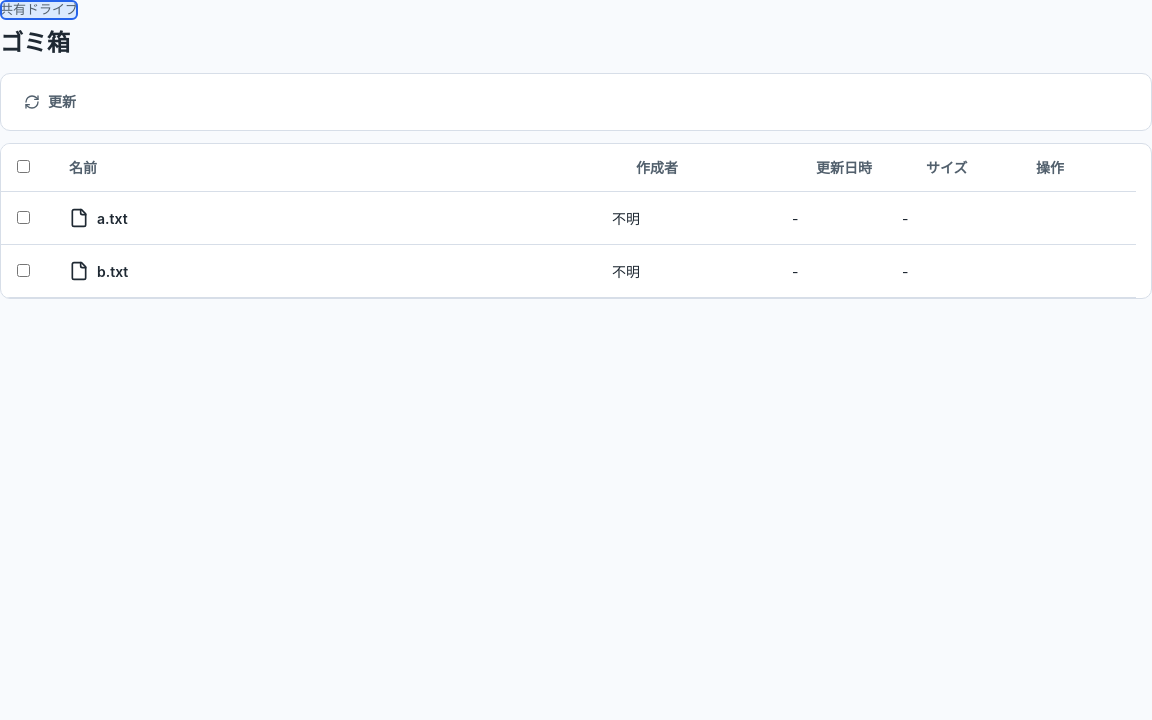
Test case: DrivePage drag and drop upload › keeps all restore conflicts in one preview modal and supports bulk changes
The width and height of the screenshot is (1152, 720).
Click the checkbox named "aを選択" at {"x": 24, "y": 217}, box [17,211,30,224]
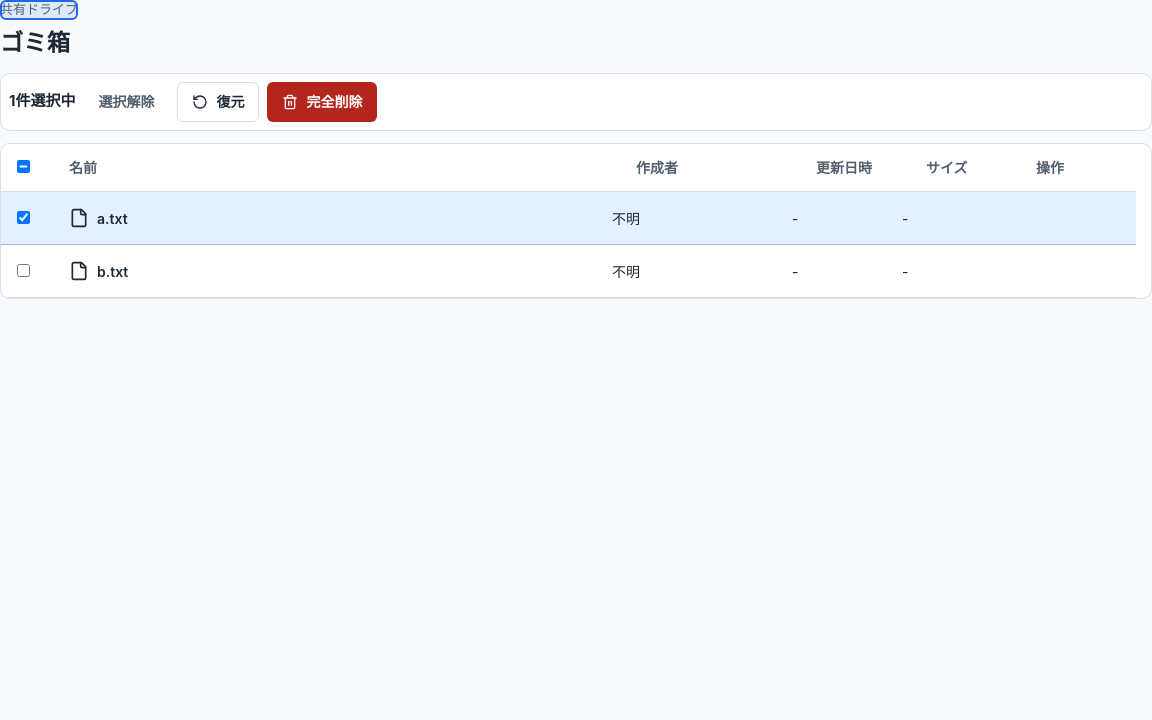
Click the checkbox named "bを選択" at {"x": 24, "y": 270}, box [17,264,30,277]
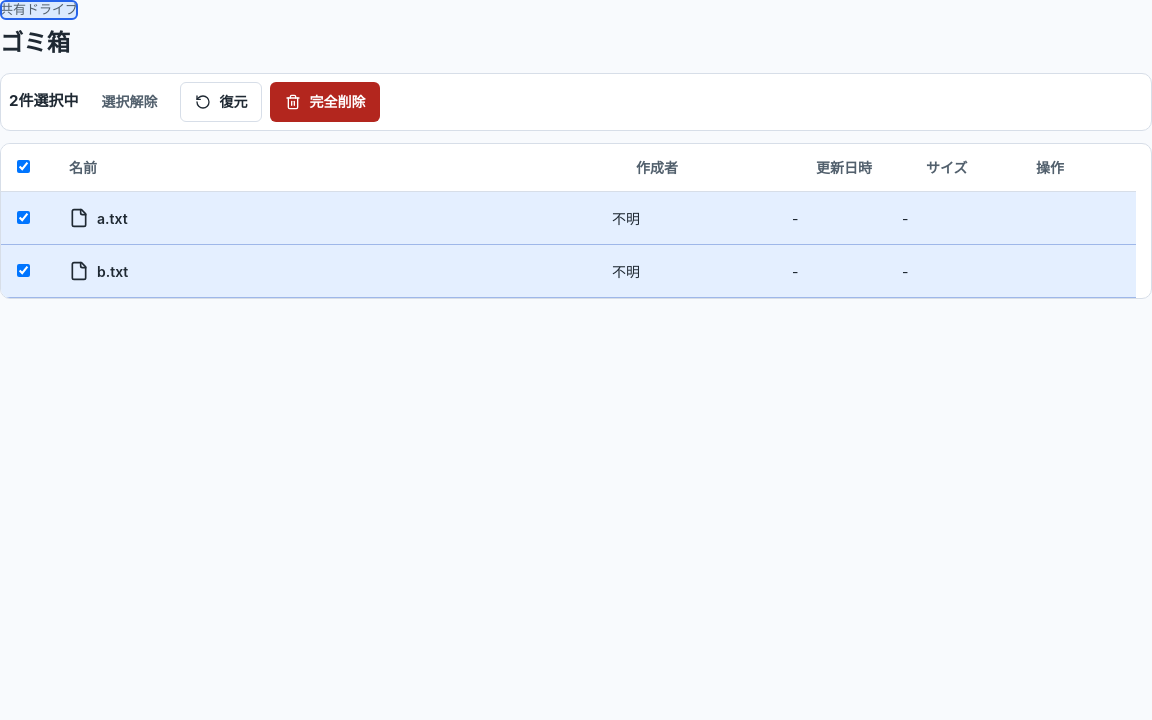
Click the button "復元" at {"x": 222, "y": 102}, box [180,82,262,122]
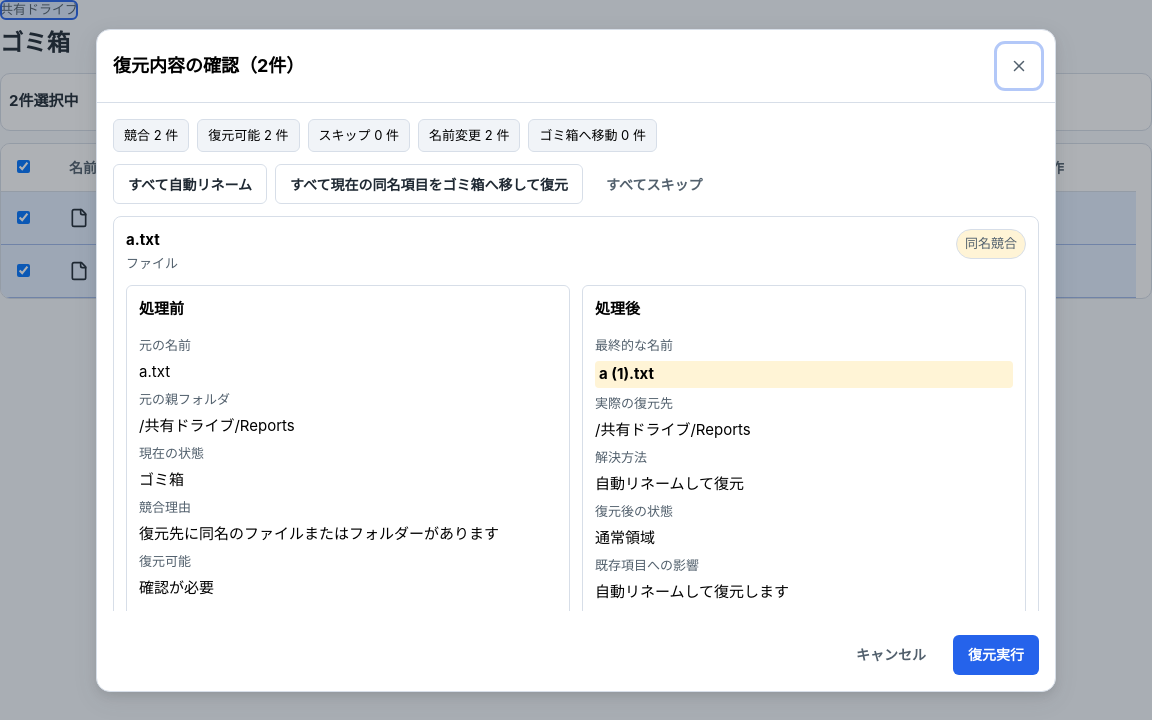
Expected: the 1st text "a.txt" is shown, [97,208,128,229]
Now the heading "復元内容の確認（2件）" is shown, box [113,52,304,79]
Now the number of dialogs is 1
Click the button "すべてスキップ" at {"x": 654, "y": 184}, box [591,164,718,204]
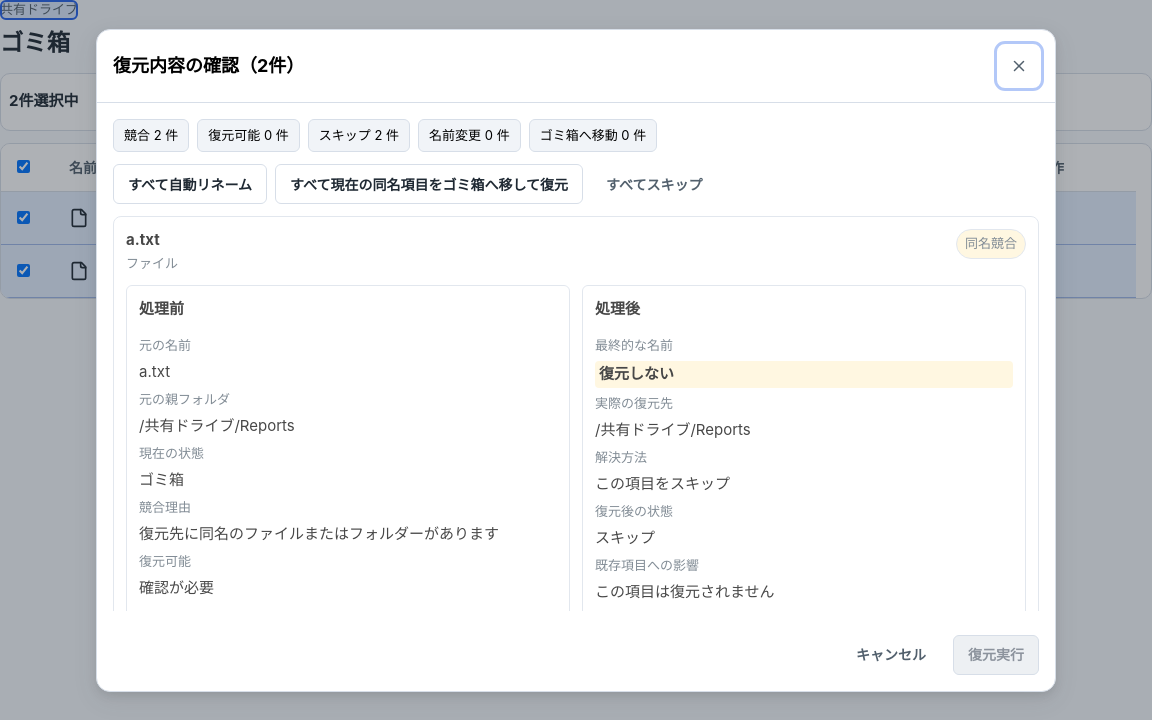
Now the text "スキップ 2 件" is shown, box [308,118,410,152]
